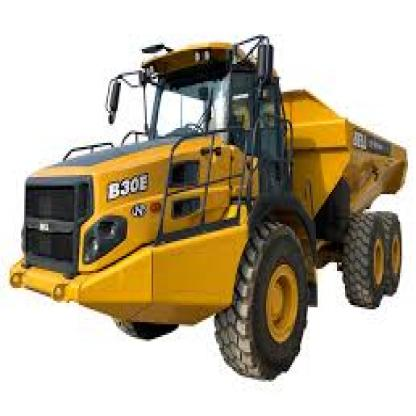dump_truck: (2, 30, 403, 388)
